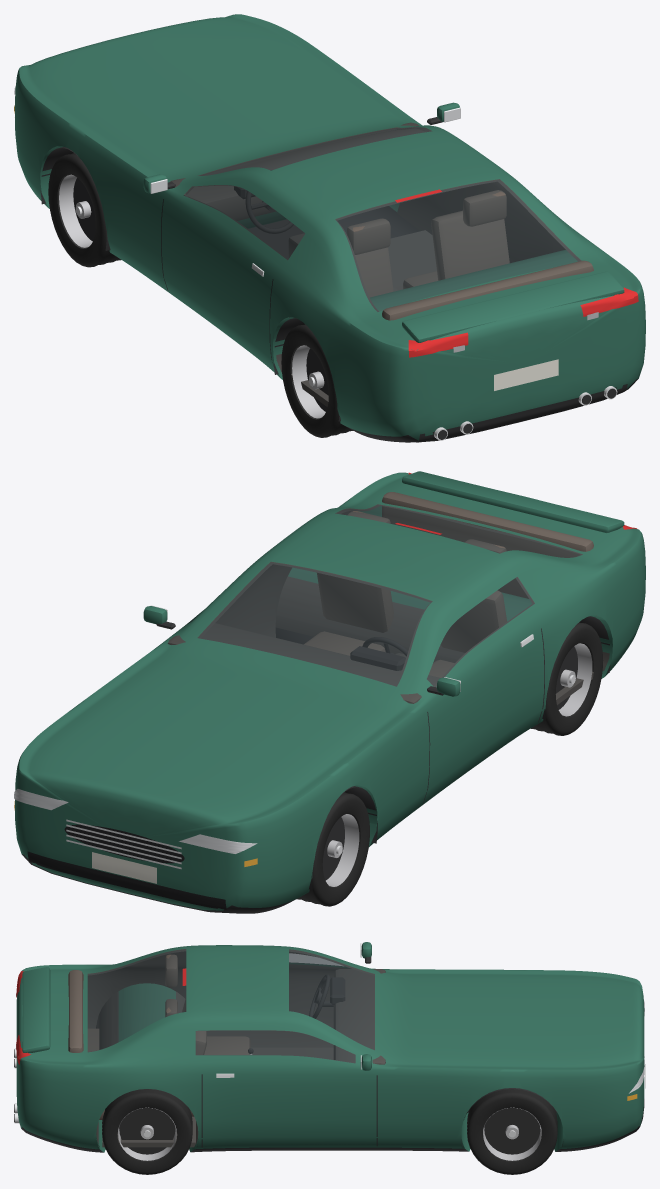
The model's file is valcourt_gt.glb.
3 renders of one model, top to bottom at view 1: azimuth 30°, elevation 25°; view 2: azimuth 150°, elevation 25°; view 3: azimuth 270°, elevation 25°, orthographic. The views are drawn at different scales.
Visible parts, largest first — view 1: Body, Glass, Interior, Wheel_FL, Wheel_RL, Lights_Tail; view 2: Body, Interior, Glass, Wheel_FL, Wheel_RL, Lights_Head; view 3: Body, Glass, Interior, Wheel_FR, Wheel_RR, SteeringWheel.
Part boxes in pixels (box(x1,y1,x2,y2)): Body: box(14, 14, 645, 442); Glass: box(184, 126, 580, 311); Interior: box(170, 122, 593, 406); Wheel_FL: box(48, 153, 121, 267); Wheel_RL: box(281, 324, 353, 437); Lights_Tail: box(408, 287, 638, 357); Body: box(14, 471, 645, 913); Interior: box(167, 492, 609, 704); Glass: box(188, 505, 581, 686); Wheel_FL: box(296, 792, 369, 906); Wheel_RL: box(530, 622, 603, 735); Lights_Head: box(14, 789, 257, 853); Body: box(14, 942, 645, 1152); Glass: box(87, 949, 374, 1063); Interior: box(68, 949, 385, 1147); Wheel_FR: box(467, 1089, 557, 1174); Wheel_RR: box(102, 1089, 192, 1174); SteeringWheel: box(309, 974, 330, 1018).
Bounding box in the file's own units: 2.23 × 1.29 × 4.95.
